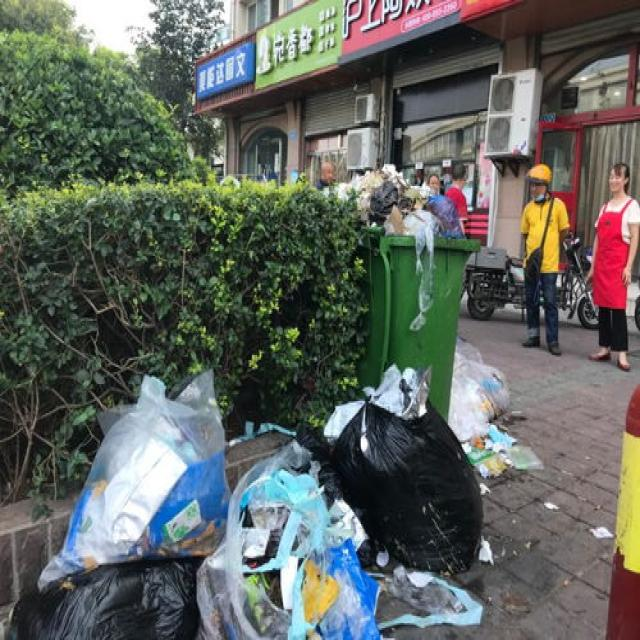garbage: (0, 334, 544, 638)
overflow: (353, 160, 479, 420)
